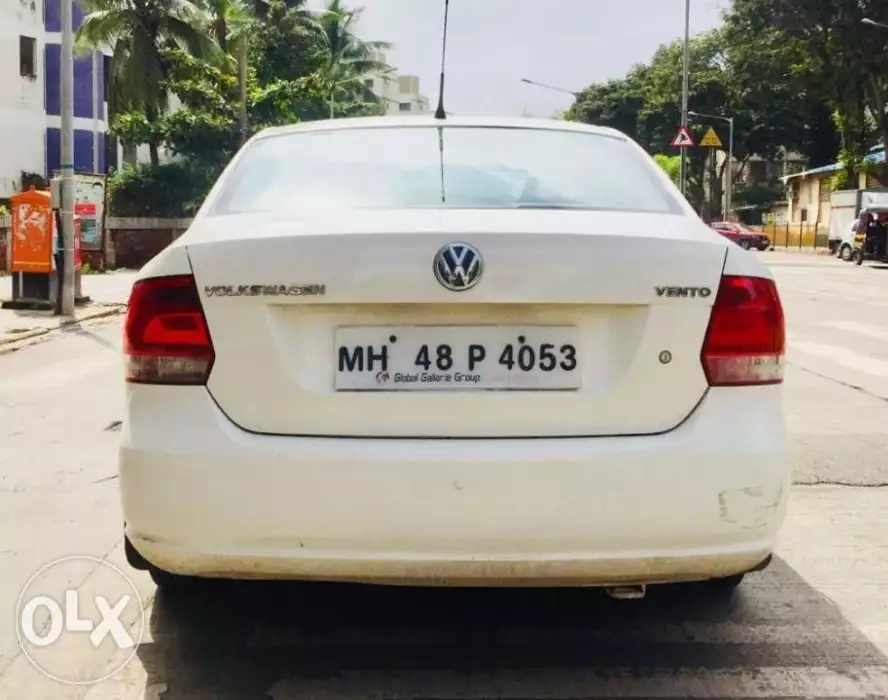licenseplate: (329, 319, 589, 398)
